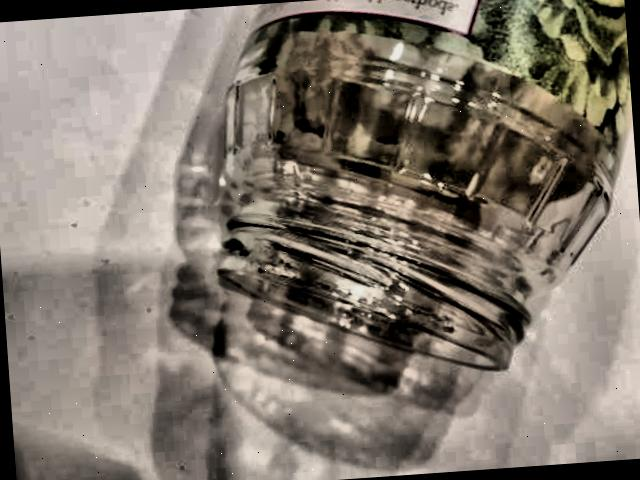Almennt: (171, 0, 640, 400)
